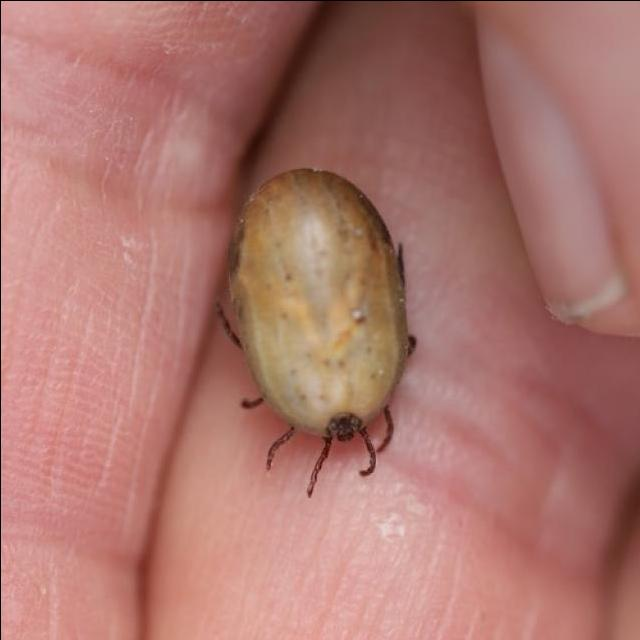Dermacentor Reticulatus-F-Fed: (215, 168, 410, 498)
